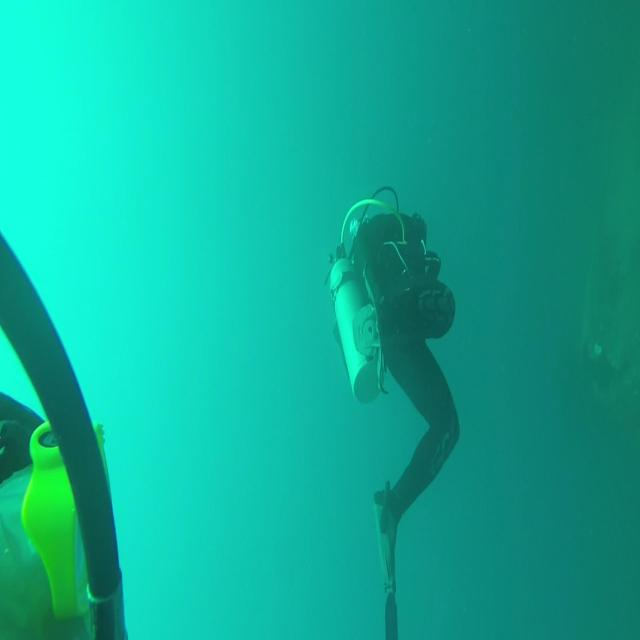human: (326, 185, 460, 595)
